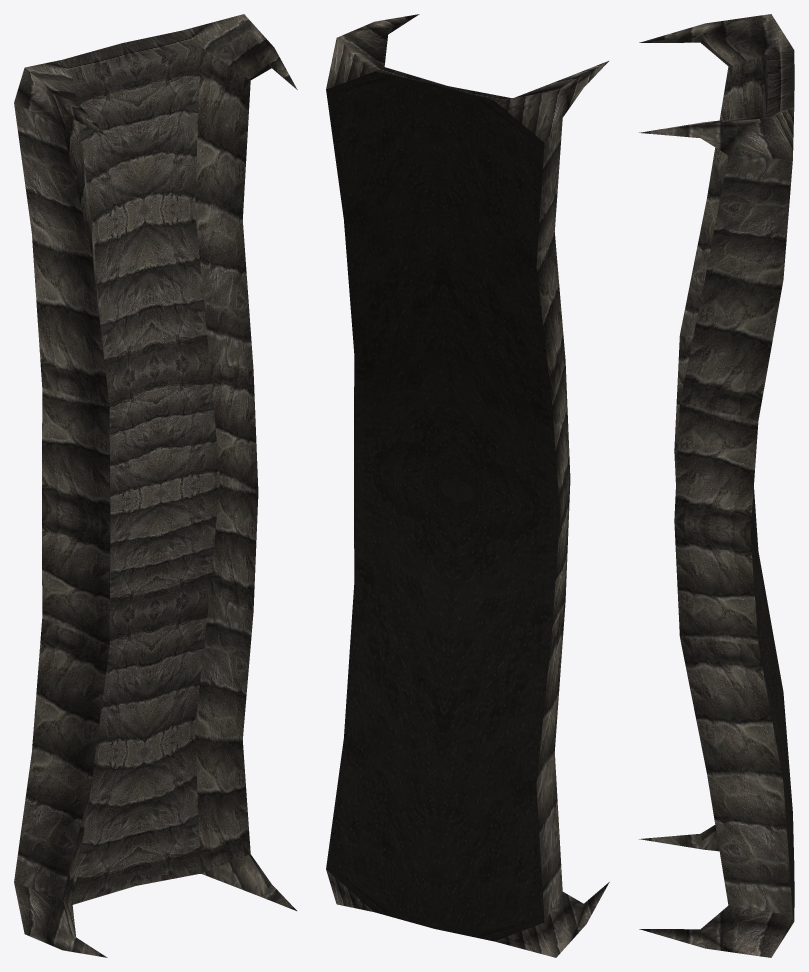
File: bridge_10.obj
The picture shows the model from 3 angles, left to right: view 1: azimuth 30°, elevation 25°; view 2: azimuth 150°, elevation 25°; view 3: azimuth 270°, elevation 25°; orthographic projection. The views are drawn at different scales.
Visible parts, largest first — view 1: (null); view 2: (null); view 3: (null).
Part boxes in pixels (x1,y1,x2,y2): (null): (14,14,297,957); (null): (326,14,609,957); (null): (639,14,794,957).
Bounding box in the file's own units: 2.04 × 7.69 × 1.3.
